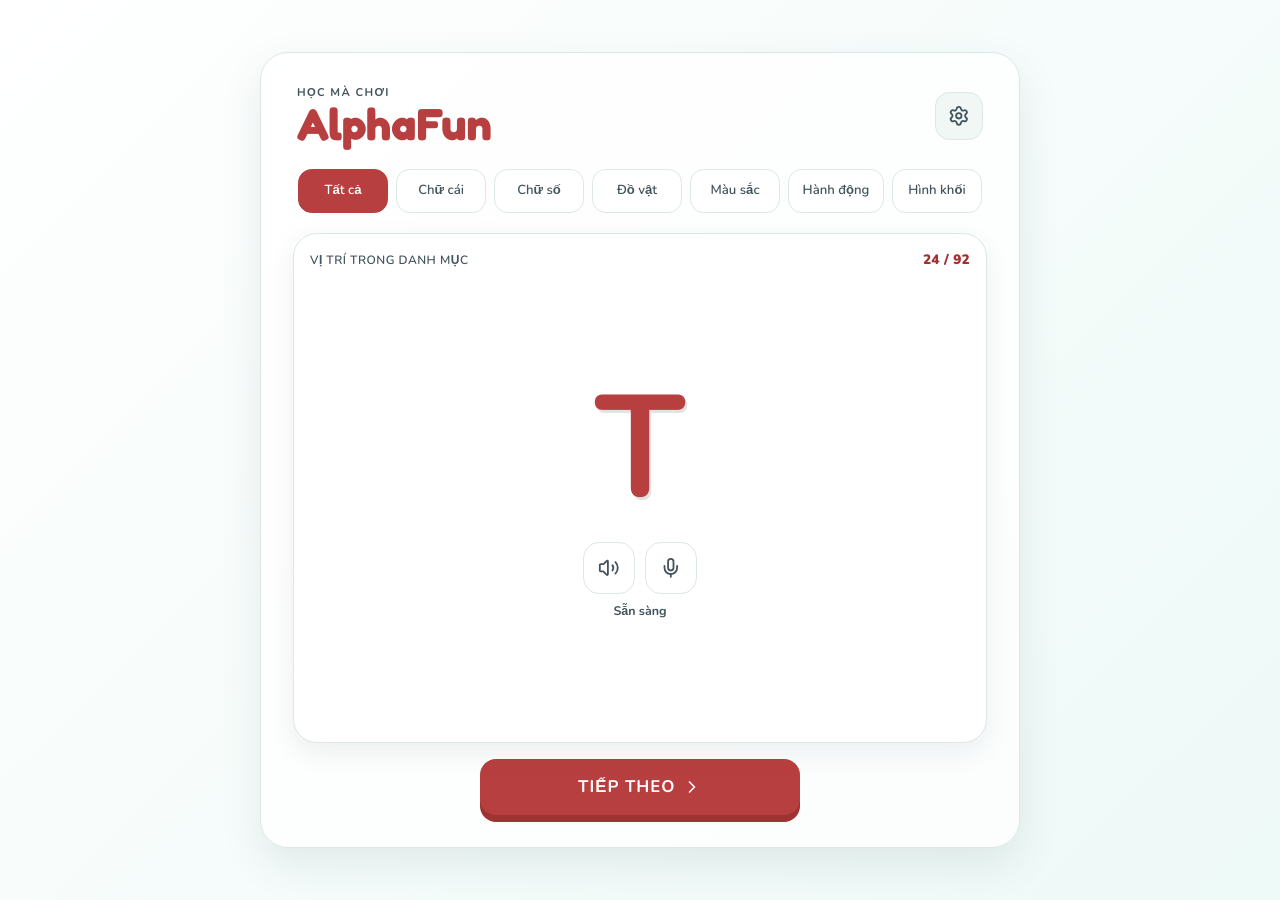
Test: App Component › changes language when settings are toggled and clicked
Step 1. Click the button named "Mở cài đặt" → click(959, 116), box [935, 92, 983, 140]
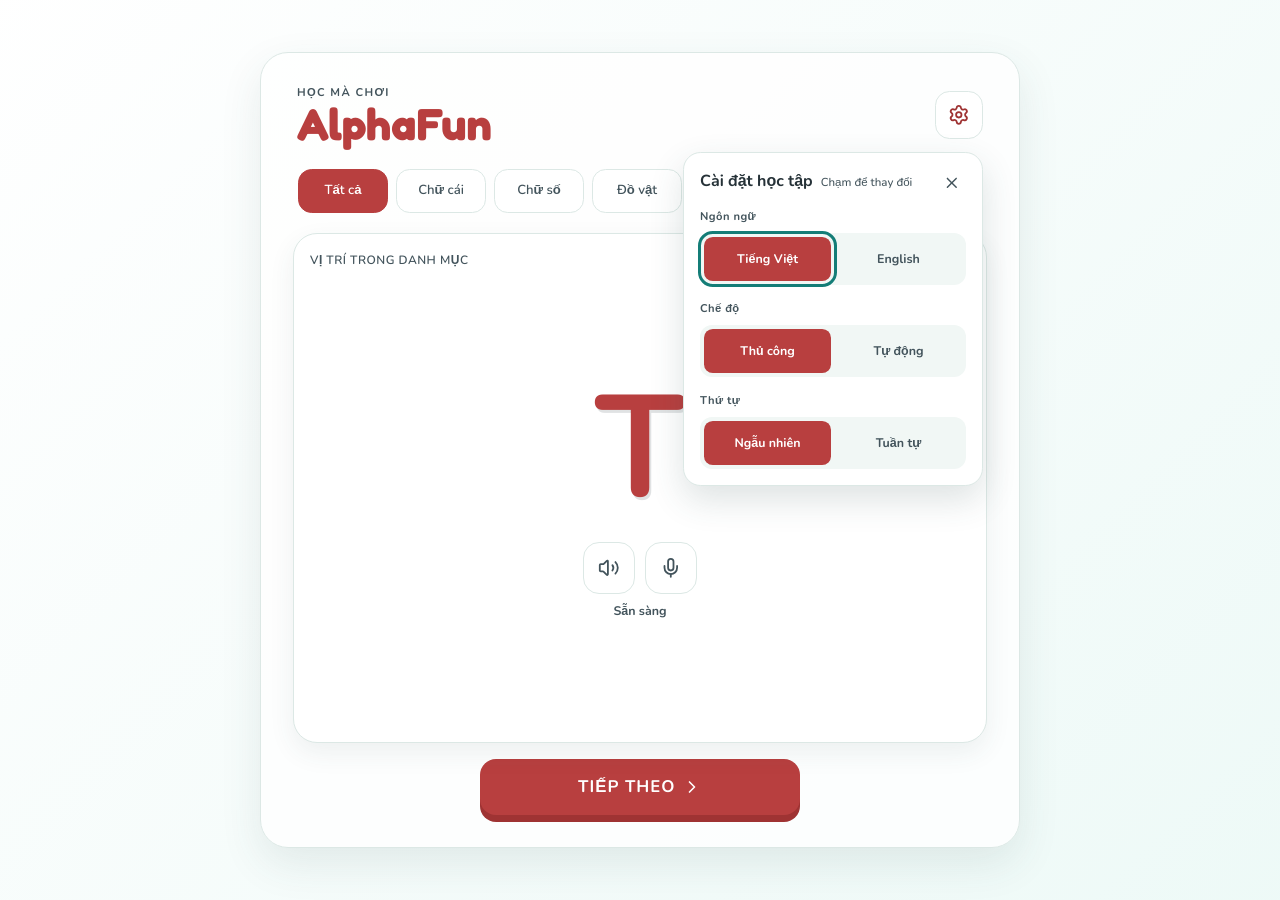
Step 2. Click the button "English" → click(898, 259), box [835, 237, 962, 281]
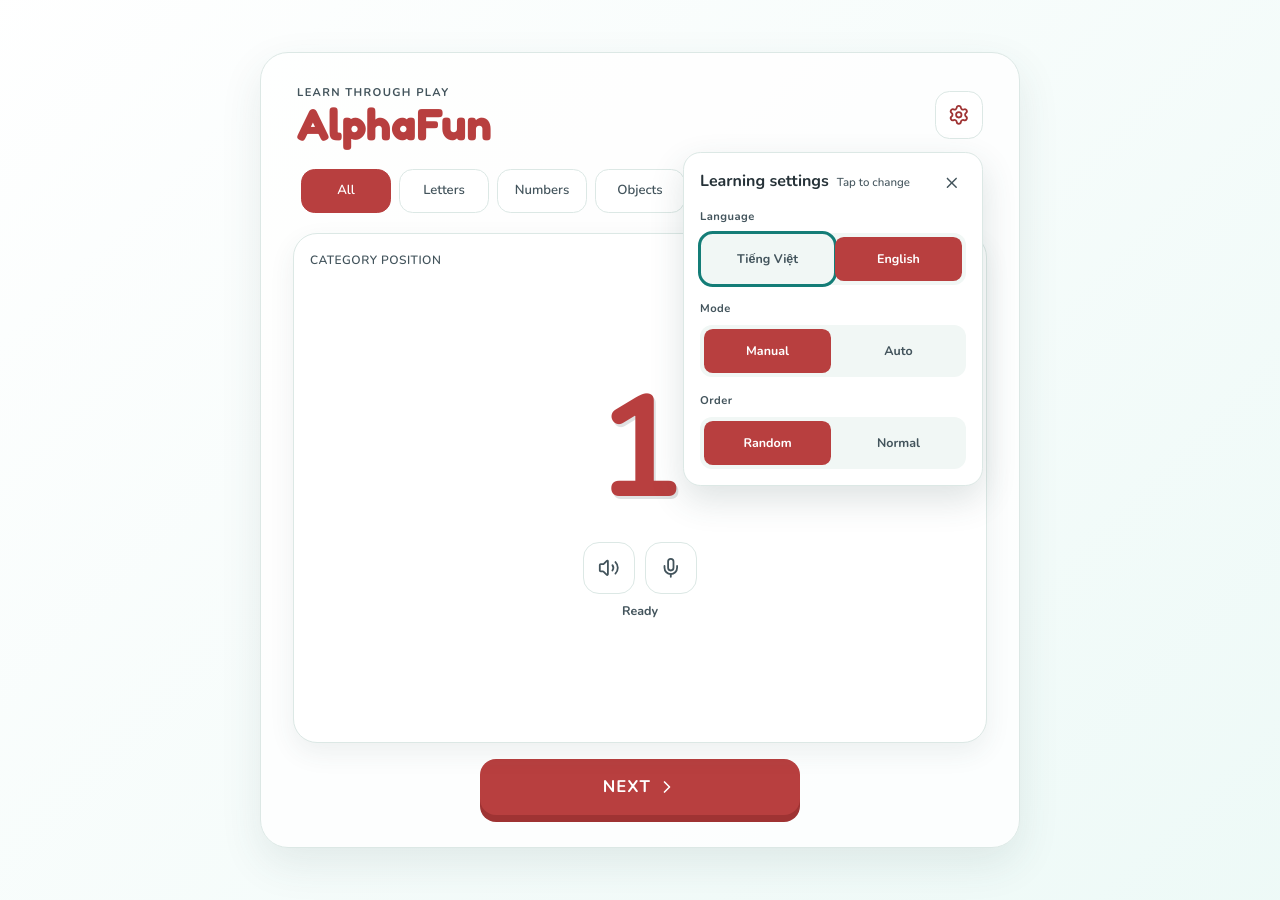
Now the button "Letters" is shown, box [399, 169, 489, 213]
